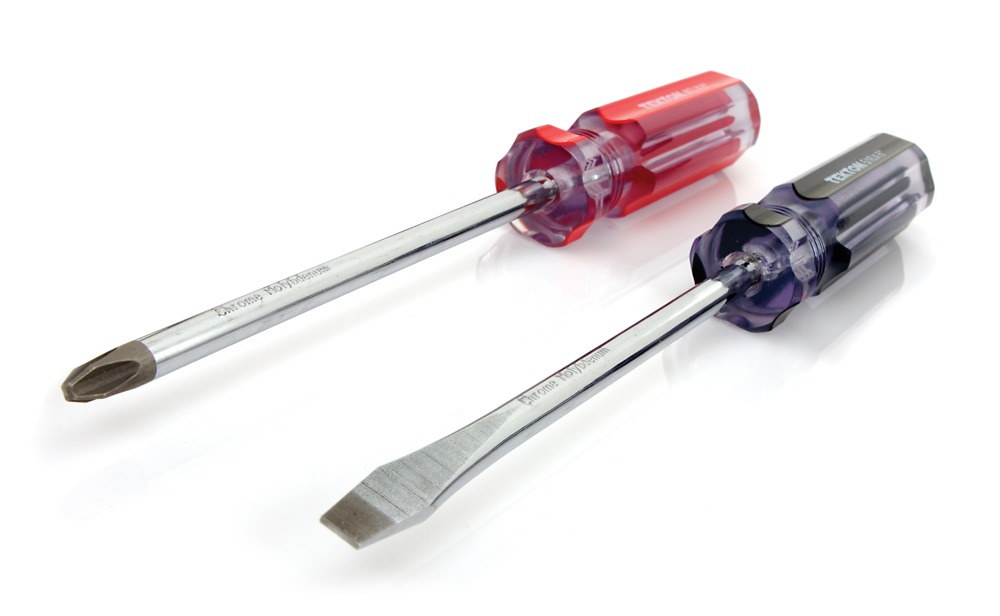screwdriver: (314, 132, 935, 558), (59, 69, 763, 408)
